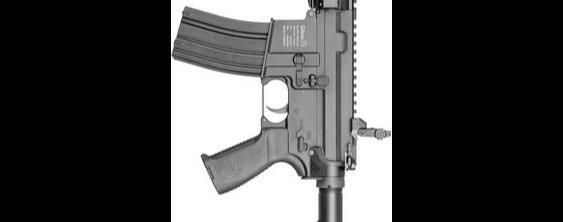gun: (170, 0, 389, 222)
